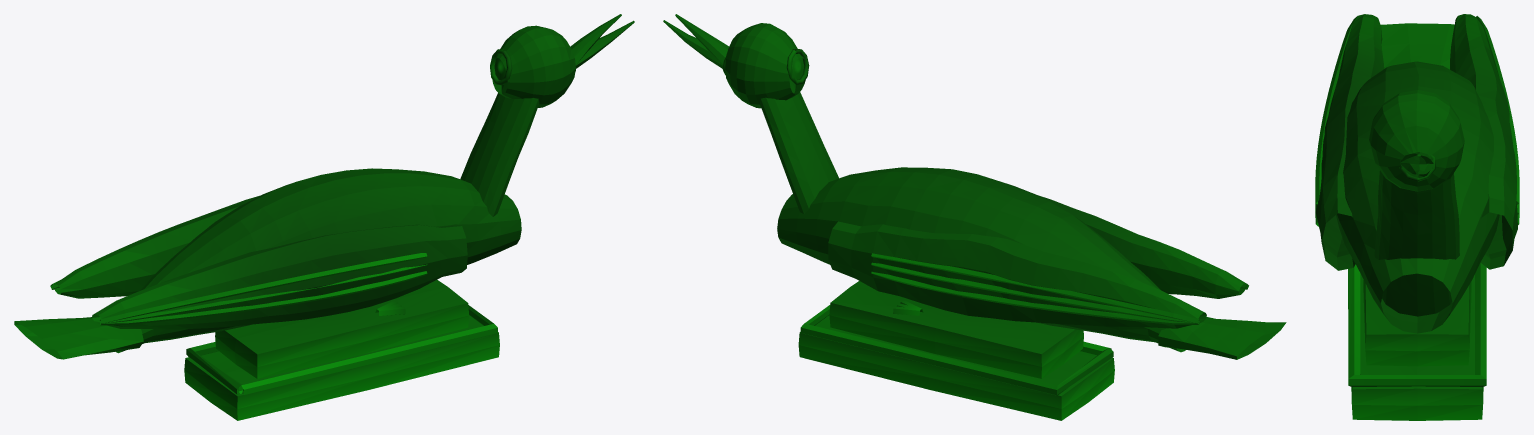
Rendered from lintel_gull_open.glb.
3 renders of one model, left to right at view 1: azimuth 30°, elevation 25°; view 2: azimuth 150°, elevation 25°; view 3: azimuth 270°, elevation 25°, orthographic. The views are drawn at different scales.
Visible parts, largest first — view 1: lintel_gull_open; view 2: lintel_gull_open; view 3: lintel_gull_open.
Part boxes in pixels (box(x1,y1,x2,y2)): lintel_gull_open: box(14, 14, 634, 420); lintel_gull_open: box(663, 14, 1286, 420); lintel_gull_open: box(1315, 14, 1519, 420).
Size of what is drawn, in the model's own units: 0.9171 by 0.4357 by 0.2201.
